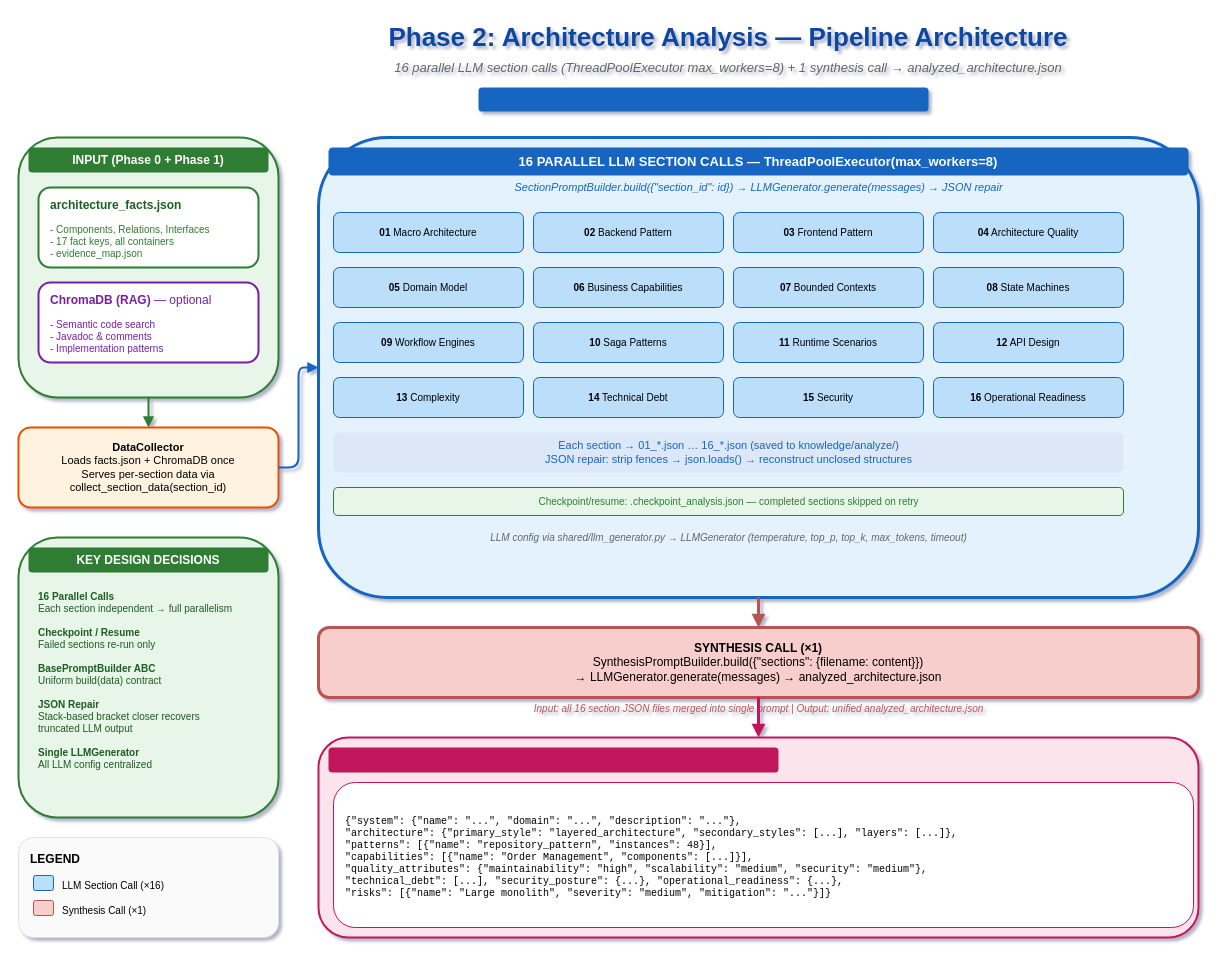
Image size: 1223x961. Some labels were removed from this diagram. The shapes that lost their labels are listed below. From the top down, each one's centre as x and y in pixels, then its label:
point 703,99: pipelines/analysis/pipeline.py → AnalysisPipeline(BasePipeline)
point 553,759: OUTPUT: knowledge/analyze/analyzed_architecture.json
